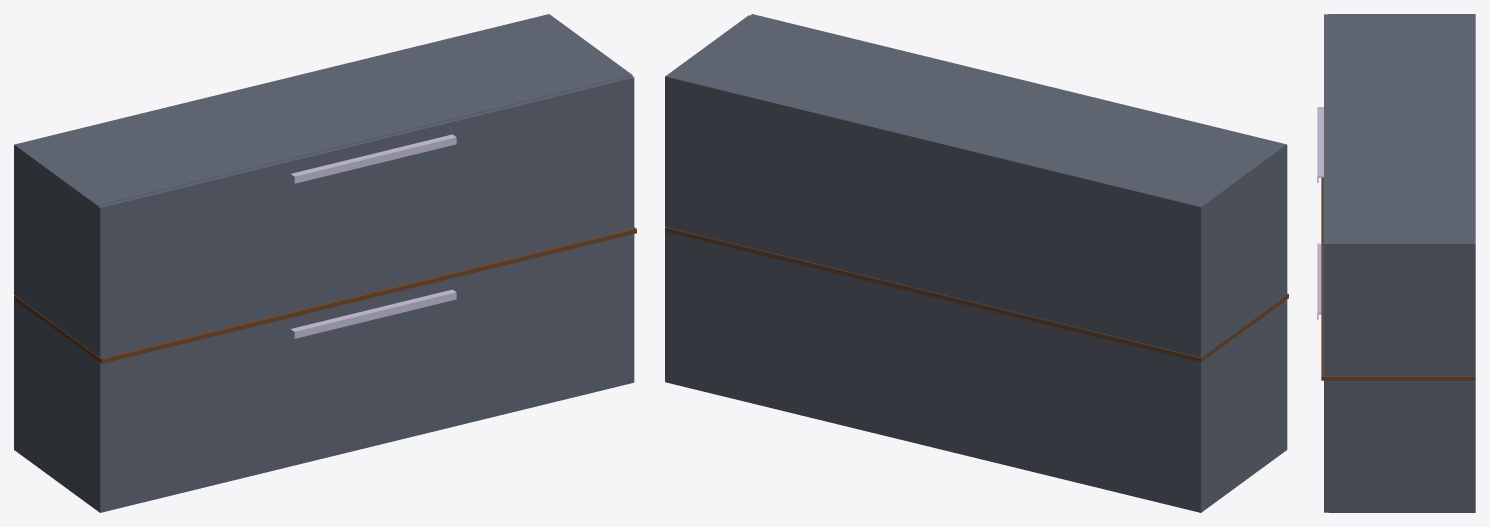
File: Cabinet2.fbx
3 views of the same model, side by side, from view 1: azimuth 30°, elevation 25°; view 2: azimuth 150°, elevation 25°; view 3: azimuth 270°, elevation 25° (orthographic). The views are drawn at different scales.
Parts seen in each view (by area): view 1: Cabinet1_Door.008, Cabinet1_Door.007, Cabinet1.008, Cabinet1.007, Countertop1.007, Handle.008, Handle.007; view 2: Cabinet1.008, Cabinet1.007, Countertop1.007, Cabinet1_Door.008; view 3: Cabinet1.008, Cabinet1.007, Cabinet1_Door.008, Countertop1.007, Cabinet1_Door.007, Handle.008, Handle.007.
Boxes of the visible parts, left/top/right/bottom form: Cabinet1_Door.008: left=97, top=76, right=634, bottom=357; Cabinet1_Door.007: left=97, top=234, right=634, bottom=512; Cabinet1.008: left=14, top=14, right=632, bottom=355; Cabinet1.007: left=14, top=300, right=97, bottom=510; Countertop1.007: left=14, top=227, right=636, bottom=363; Handle.008: left=290, top=134, right=456, bottom=183; Handle.007: left=290, top=289, right=456, bottom=338; Cabinet1.008: left=665, top=15, right=1284, bottom=357; Cabinet1.007: left=665, top=232, right=1284, bottom=512; Countertop1.007: left=665, top=227, right=1288, bottom=362; Cabinet1_Door.008: left=750, top=14, right=1287, bottom=295; Cabinet1.008: left=1328, top=14, right=1475, bottom=376; Cabinet1.007: left=1328, top=380, right=1475, bottom=512; Cabinet1_Door.008: left=1324, top=14, right=1328, bottom=375; Countertop1.007: left=1321, top=177, right=1475, bottom=380; Cabinet1_Door.007: left=1324, top=380, right=1328, bottom=512; Handle.008: left=1317, top=107, right=1323, bottom=182; Handle.007: left=1317, top=243, right=1321, bottom=319.
Bounding box in the file's own units: 0.9377 × 0.5112 × 0.2731.
